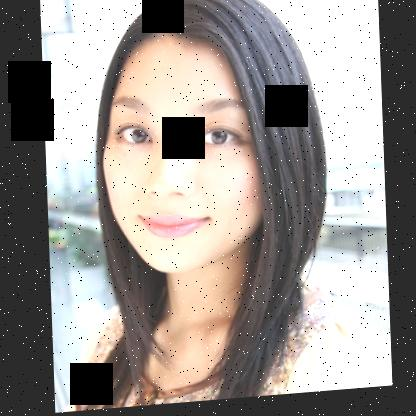Female: (98, 26, 269, 277)
